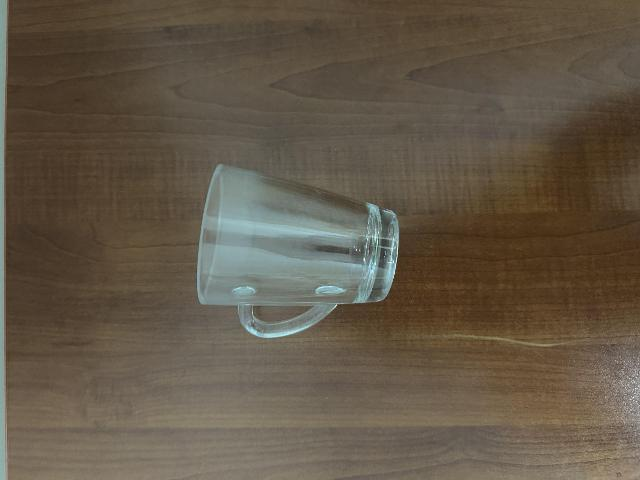Cam: (194, 163, 405, 335)
